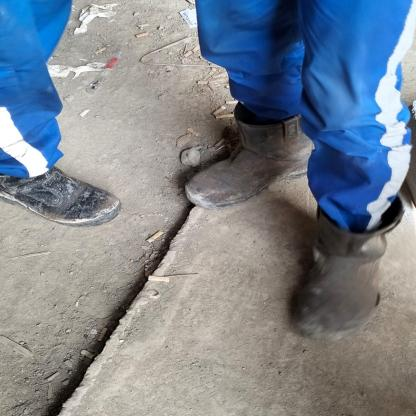bota: (294, 193, 402, 341), (180, 115, 320, 206), (1, 160, 124, 229)
